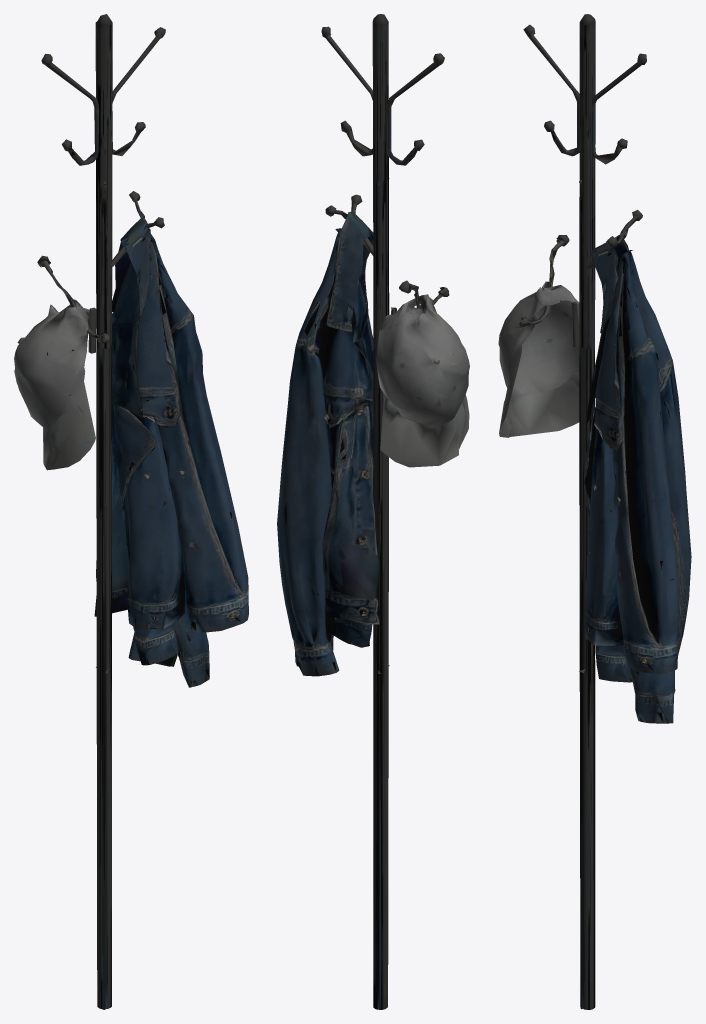
The model's file is mobile.glb.
The picture shows the model from 3 angles, left to right: view 1: azimuth 30°, elevation 25°; view 2: azimuth 150°, elevation 25°; view 3: azimuth 330°, elevation 25°; orthographic projection.
Visible parts, largest first — view 1: coatrack; view 2: coatrack; view 3: coatrack.
Boxes of the visible parts, left/top/right/bottom form: coatrack: left=14, top=14, right=248, bottom=1009; coatrack: left=277, top=14, right=469, bottom=1009; coatrack: left=498, top=14, right=691, bottom=1009.
Bounding box in the file's own units: 0.3675 × 1.75 × 0.1869.
Materials: 1 (1 with a texture image).
